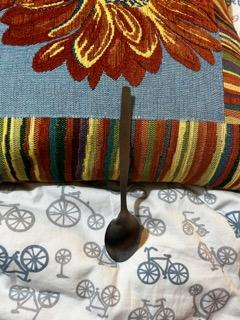spoon: (104, 85, 145, 264)
